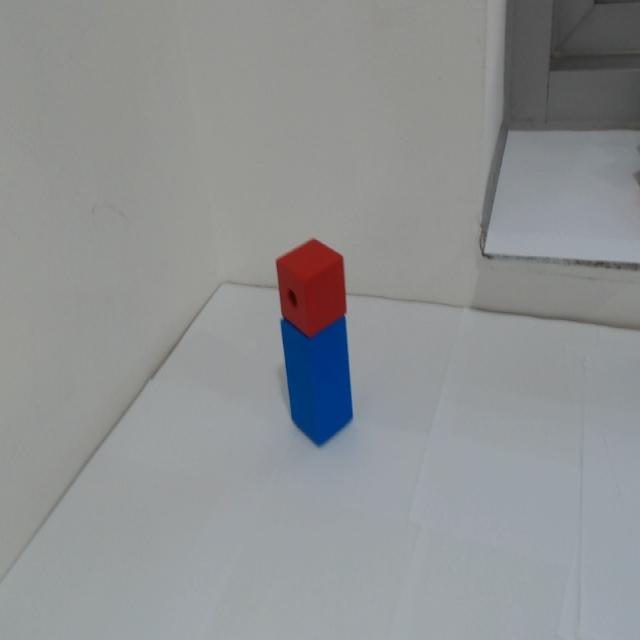cube: (268, 224, 364, 341)
